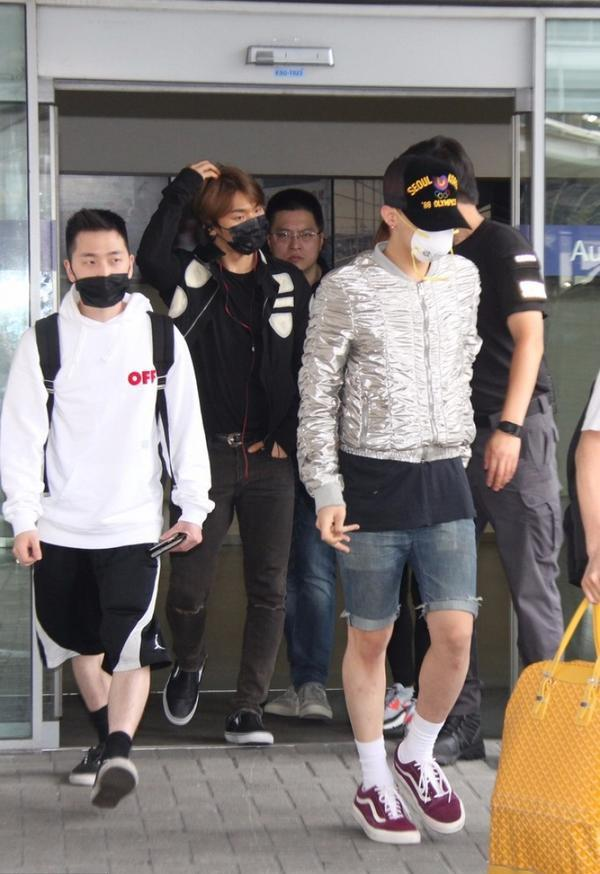NONE: (274, 223, 322, 270)
OK: (222, 198, 270, 256), (405, 210, 456, 261)
WRONG: (77, 246, 131, 308)
